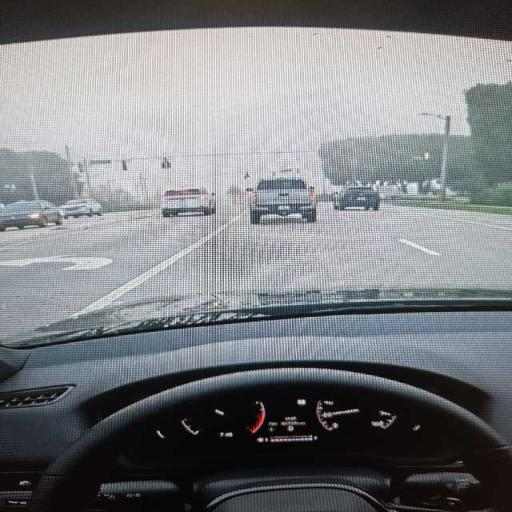car: (0, 0, 511, 511), (248, 178, 316, 223), (0, 201, 63, 231), (160, 188, 215, 217), (334, 187, 380, 210), (60, 200, 103, 217)
lane: (123, 204, 511, 301), (0, 208, 230, 337), (73, 215, 239, 317), (392, 207, 511, 289), (400, 239, 439, 256)
